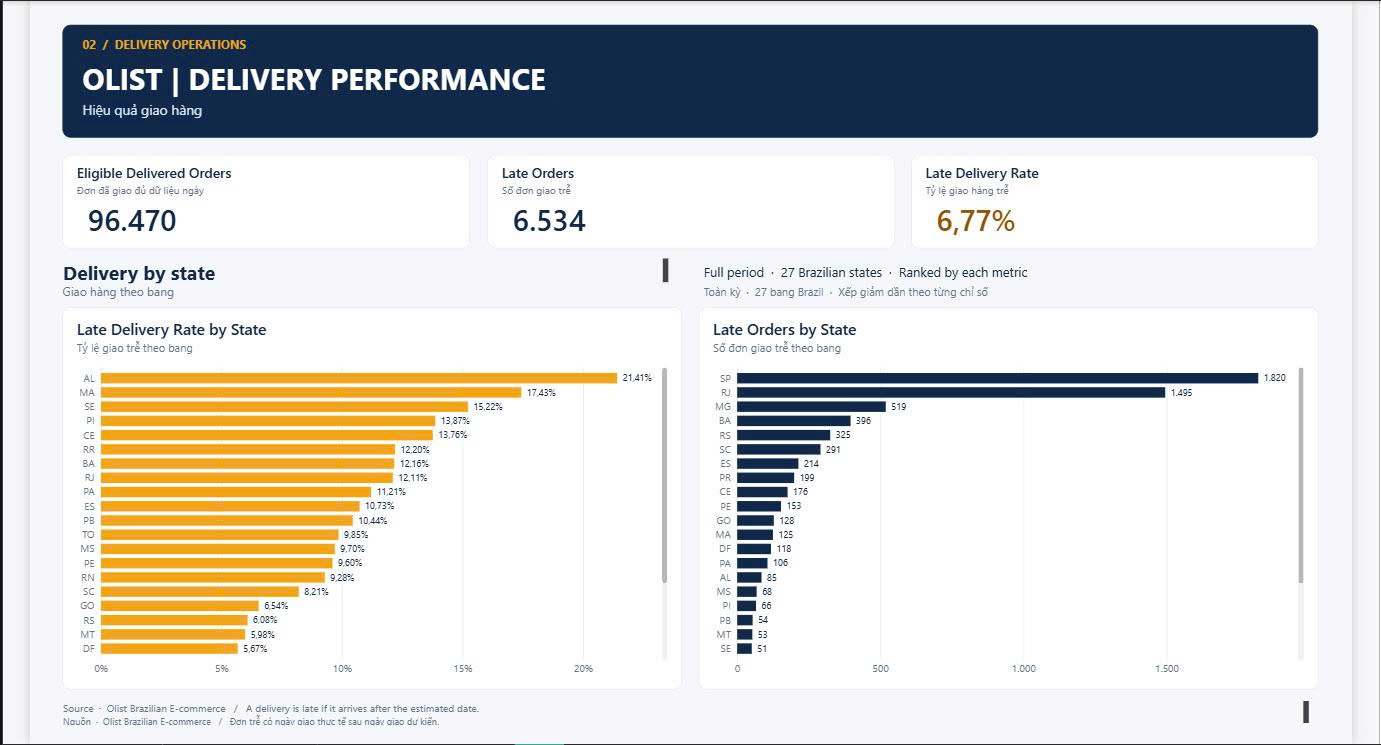

What the dashboard file says about the page in this screenshot:
{"tool":"powerbi","page":{"name":"Delivery Performance","canvas":[1920,1080],"ordinal":1},"visuals":[{"type":"textbox","box":[48,34,1824,164],"z":0},{"type":"textbox","box":[76,51,1600,32],"z":1000},{"type":"textbox","box":[76,83,1670,58],"z":2000},{"type":"textbox","box":[76,143,1660,32],"z":3000},{"type":"cardVisual","title":"Eligible Delivered Orders","fields":{"Data":["olist_orders.Eligible Delivered Orders"]},"box":[48,224,592,136],"z":4000},{"type":"cardVisual","title":"Late Orders","fields":{"Data":["olist_orders.Late Orders"]},"box":[664,224,592,136],"z":5000},{"type":"cardVisual","title":"Late Delivery Rate","fields":{"Data":["olist_orders.Late Delivery Rate"]},"box":[1280,224,592,136],"z":6000},{"type":"textbox","box":[48,374,880,36],"z":7000},{"type":"textbox","box":[48,411,880,29],"z":8000},{"type":"clusteredBarChart","title":"Late Delivery Rate by State","fields":{"Category":["olist_customers.customer_state"],"Y":["olist_orders.Late Delivery Rate"]},"box":[48,445,900,555],"z":9000},{"type":"clusteredBarChart","title":"Late Orders by State","fields":{"Category":["olist_customers.customer_state"],"Y":["olist_orders.Late Orders"]},"box":[972,445,900,555],"z":10000},{"type":"textbox","box":[48,1016,1810,35],"z":11000},{"type":"textbox","box":[978,382,880,29],"z":12000},{"type":"textbox","box":[978,411,880,29],"z":13000}]}

Visuals, with their boxes on the page's 1920x1080 design canvas (x1, y1, x2, y2). These are canvas units, not pixel positions in the 1381x745 screenshot, which may show the page scaled, cropped or inside an application window:
textbox: rect(48, 34, 1872, 198)
textbox: rect(76, 51, 1676, 83)
textbox: rect(76, 83, 1746, 141)
textbox: rect(76, 143, 1736, 175)
"Eligible Delivered Orders" cardVisual: rect(48, 224, 640, 360)
"Late Orders" cardVisual: rect(664, 224, 1256, 360)
"Late Delivery Rate" cardVisual: rect(1280, 224, 1872, 360)
textbox: rect(48, 374, 928, 410)
textbox: rect(48, 411, 928, 440)
"Late Delivery Rate by State" clusteredBarChart: rect(48, 445, 948, 1000)
"Late Orders by State" clusteredBarChart: rect(972, 445, 1872, 1000)
textbox: rect(48, 1016, 1858, 1051)
textbox: rect(978, 382, 1858, 411)
textbox: rect(978, 411, 1858, 440)
